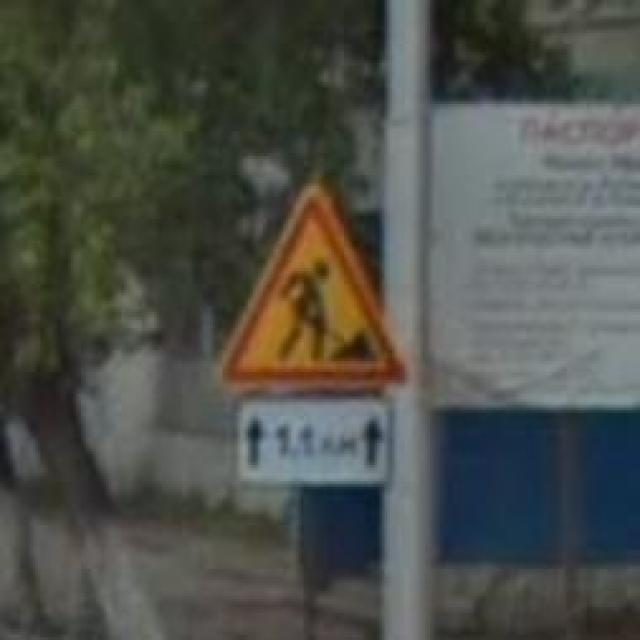road_work: (212, 180, 410, 394)
